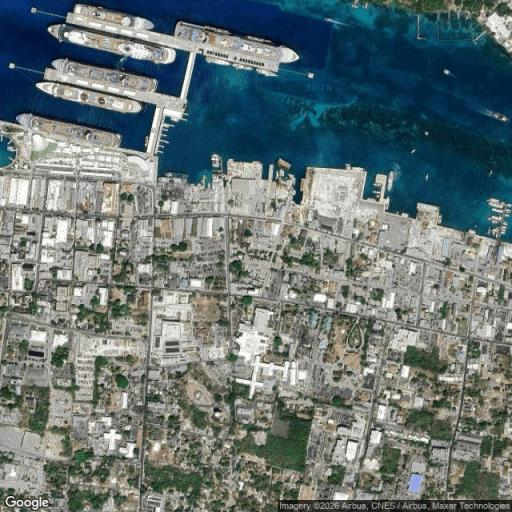ship: (175, 21, 301, 63), (47, 25, 174, 65), (54, 59, 160, 94), (15, 114, 121, 148), (34, 82, 143, 114), (74, 6, 155, 30)
